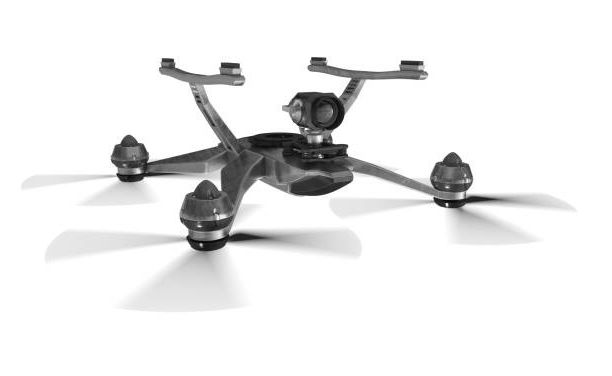Drone: (26, 54, 577, 320)
